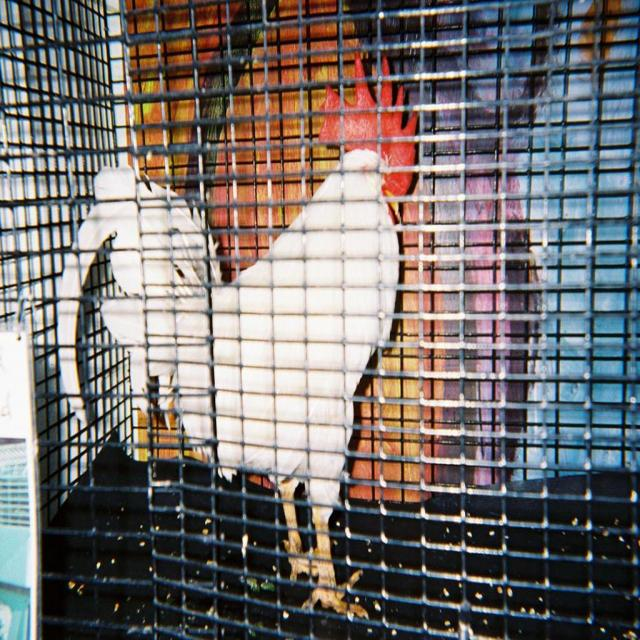Chicken: (59, 49, 414, 615)
